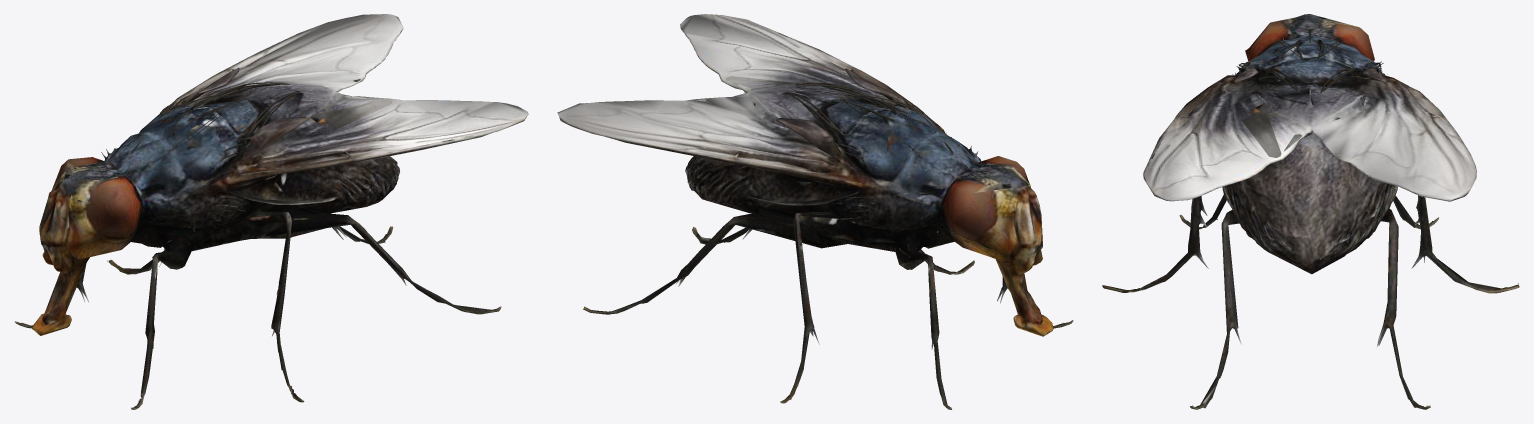
The model's file is fly.glb.
3 renders of one model, left to right at view 1: azimuth 30°, elevation 25°; view 2: azimuth 150°, elevation 25°; view 3: azimuth 270°, elevation 25°, orthographic. The views are drawn at different scales.
Parts seen in each view (by area): view 1: tripo_node_61c6cd8a-872b-4291-8e56-8cd3a4f82371; view 2: tripo_node_61c6cd8a-872b-4291-8e56-8cd3a4f82371; view 3: tripo_node_61c6cd8a-872b-4291-8e56-8cd3a4f82371.
Part boxes in pixels (bbox=[...]): tripo_node_61c6cd8a-872b-4291-8e56-8cd3a4f82371: bbox=[14, 14, 528, 409]; tripo_node_61c6cd8a-872b-4291-8e56-8cd3a4f82371: bbox=[557, 14, 1073, 409]; tripo_node_61c6cd8a-872b-4291-8e56-8cd3a4f82371: bbox=[1102, 14, 1519, 409].
Size of the model in its own units: 0.976 by 0.5087 by 0.763.
1 material, 1 textured.
